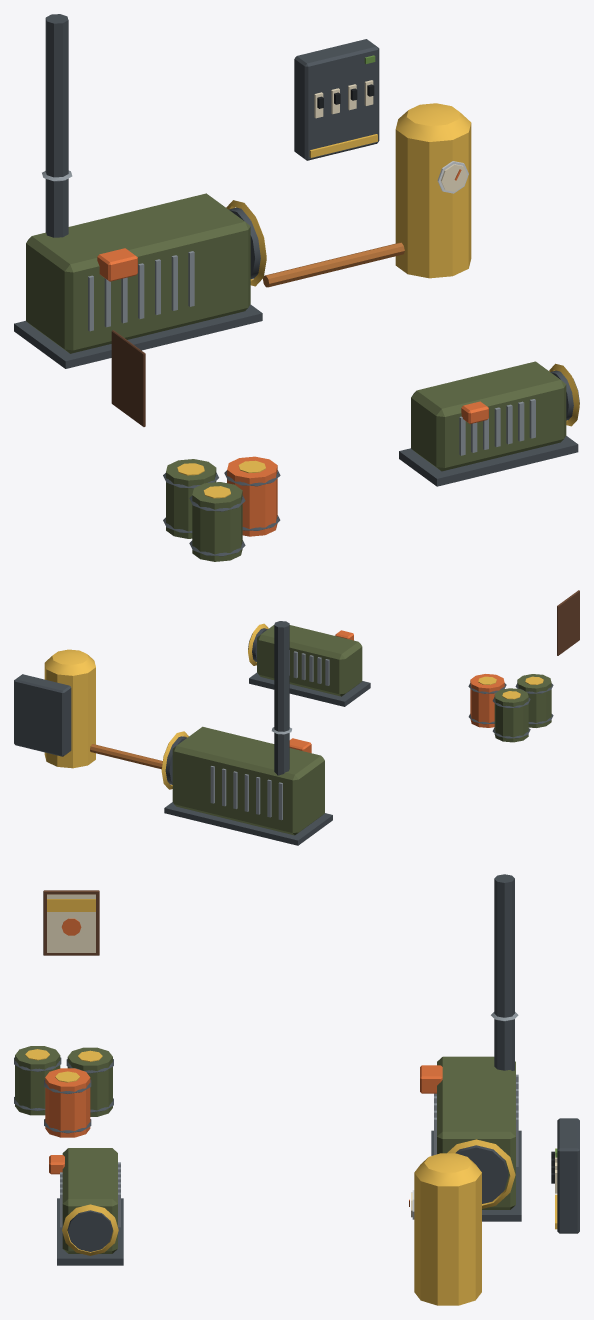
File: Room_Generator_L2.fbx
The picture shows the model from 3 angles, top to bottom: view 1: azimuth 30°, elevation 25°; view 2: azimuth 150°, elevation 25°; view 3: azimuth 270°, elevation 25°; orthographic projection. The views are drawn at different scales.
Parts seen in each view (by area): view 1: Decor, Engine1, Engine2, FuelTank1, Breaker1, Barrel3, Barrel2, Barrel1; view 2: Decor, Engine1, Engine2, Breaker1, FuelTank1, Barrel1, Barrel2, Barrel3; view 3: Decor, FuelTank1, Engine1, Engine2, Barrel2, Breaker1, Barrel3, Barrel1.
Boxes of the visible parts, x1=… form: Decor: x1=14, y1=14, x2=579, y2=556; Engine1: x1=26, y1=193, x2=250, y2=353; Engine2: x1=411, y1=361, x2=566, y2=471; FuelTank1: x1=395, y1=123, x2=471, y2=278; Breaker1: x1=294, y1=39, x2=379, y2=160; Barrel3: x1=192, y1=482, x2=242, y2=561; Barrel2: x1=227, y1=456, x2=277, y2=536; Barrel1: x1=166, y1=459, x2=216, y2=538; Decor: x1=45, y1=590, x2=579, y2=845; Engine1: x1=172, y1=726, x2=324, y2=835; Engine2: x1=257, y1=625, x2=362, y2=696; Breaker1: x1=14, y1=674, x2=71, y2=756; FuelTank1: x1=44, y1=663, x2=95, y2=768; Barrel1: x1=494, y1=688, x2=528, y2=742; Barrel2: x1=470, y1=674, x2=504, y2=727; Barrel3: x1=517, y1=674, x2=551, y2=727; Decor: x1=14, y1=874, x2=557, y2=1265; FuelTank1: x1=414, y1=1173, x2=481, y2=1305; Engine1: x1=437, y1=1056, x2=515, y2=1209; Engine2: x1=62, y1=1148, x2=117, y2=1253; Barrel2: x1=45, y1=1068, x2=90, y2=1137; Breaker1: x1=557, y1=1118, x2=579, y2=1233; Barrel3: x1=15, y1=1046, x2=60, y2=1115; Barrel1: x1=67, y1=1047, x2=112, y2=1116.
Bounding box in the file's own units: 29.71 × 16 × 30.06.
